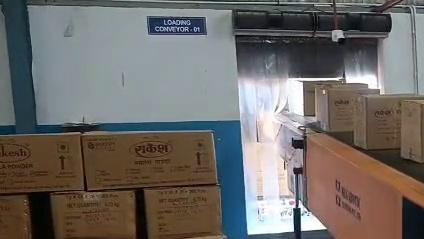box: (81, 131, 217, 189), (0, 133, 84, 193), (143, 186, 221, 239), (50, 191, 135, 239), (354, 94, 424, 149), (316, 84, 378, 131), (401, 100, 424, 162), (0, 195, 30, 239), (183, 236, 225, 239)
